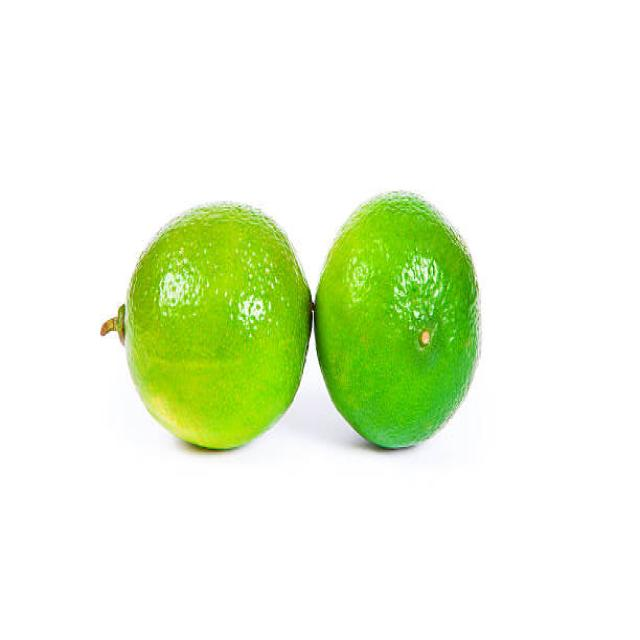Unripe: (124, 200, 313, 451), (314, 189, 483, 449)
